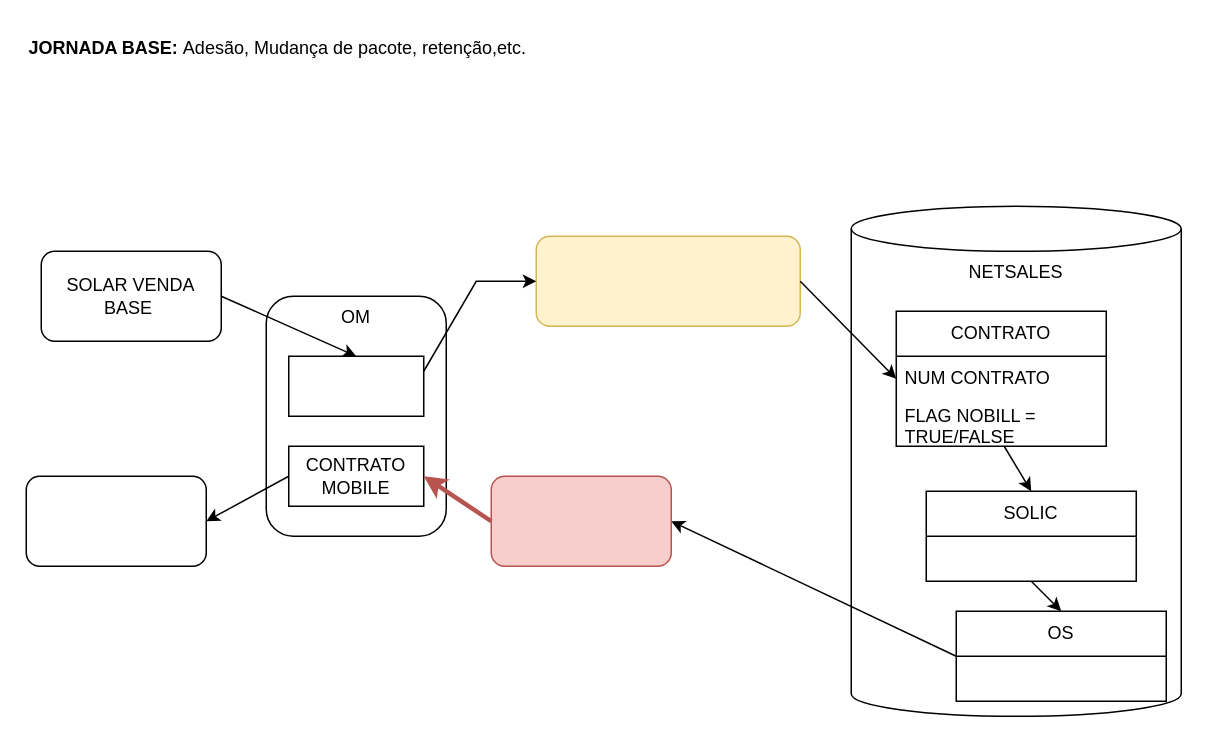
Some shapes in this 1208 by 743 pixel diagram are drawn without their labels. Each missing label, with the centre of its shape:
<MS> BASE: the point at 667,280
<MS> CALLBACK SOLAR: the point at 580,520
MOBILE: the point at 115,520
PROPOSTA: the point at 355,385
